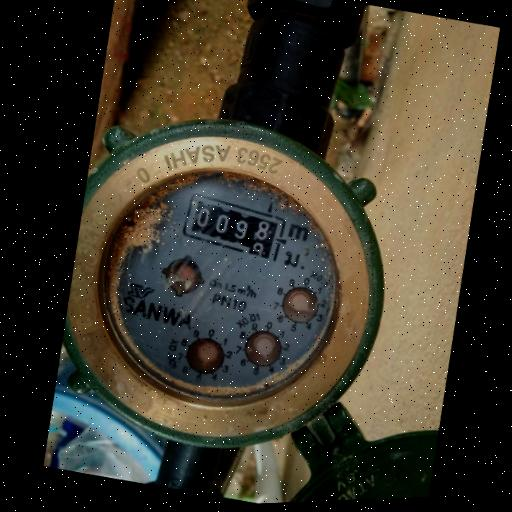0: (206, 204, 238, 242), (188, 198, 219, 237)
8: (245, 215, 282, 262)
9: (225, 209, 261, 250)
border_water_meter_number: (176, 187, 291, 266)
